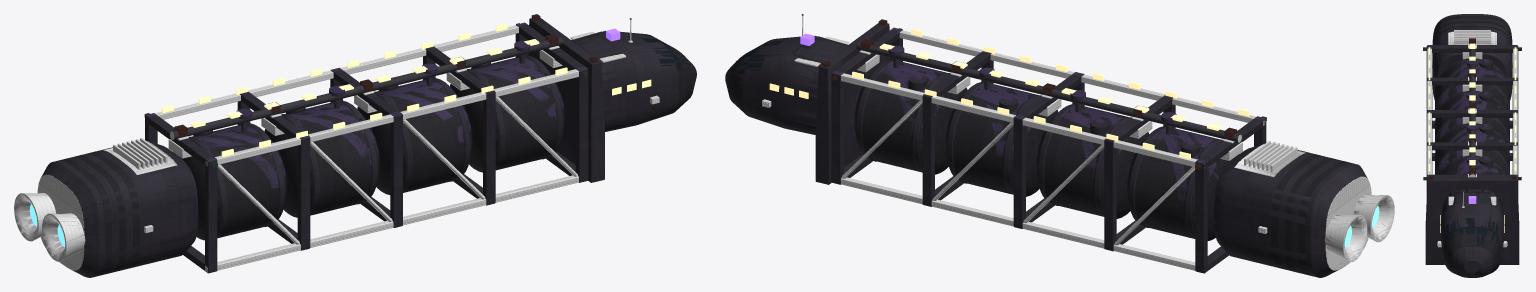
Rendered from place_quiessence_freighter_a.glb.
The picture shows the model from 3 angles, left to right: view 1: azimuth 30°, elevation 25°; view 2: azimuth 150°, elevation 25°; view 3: azimuth 270°, elevation 25°; orthographic projection. The views are drawn at different scales.
Visible parts, largest first — view 1: LOD0_Armor, LOD0_Hull, LOD0_Mechanical, LOD1_Hull, LOD1_Armor, LOD2_Armor, LOD0_Livery, LOD0_BrushedMetal, LOD2_Hull, LOD0_Lights_Warm, LOD1_Livery, LOD1_Mechanical (+7 smaller); view 2: LOD0_Armor, LOD0_Hull, LOD0_Mechanical, LOD1_Hull, LOD1_Armor, LOD2_Armor, LOD2_Hull, LOD0_BrushedMetal, LOD0_Livery, LOD0_Lights_Warm, LOD1_Livery, LOD0_MechanicalDark (+6 smaller); view 3: LOD0_Armor, LOD0_Hull, LOD1_Armor, LOD0_Mechanical, LOD2_Armor, LOD0_Livery, LOD1_Hull, LOD2_Hull, LOD0_Lights_Warm, LOD1_Livery, LOD0_CANOPY, LOD1_Mechanical (+11 smaller).
Boxes of the visible parts, x1,y1,x2,y2 form: LOD0_Armor: [42, 19, 696, 277]; LOD0_Hull: [60, 43, 693, 275]; LOD0_Mechanical: [14, 20, 659, 272]; LOD1_Hull: [175, 49, 692, 237]; LOD1_Armor: [43, 18, 696, 276]; LOD2_Armor: [41, 19, 696, 277]; LOD0_Livery: [146, 22, 586, 188]; LOD0_BrushedMetal: [172, 37, 562, 139]; LOD2_Hull: [173, 39, 693, 238]; LOD0_Lights_Warm: [161, 23, 651, 156]; LOD1_Livery: [193, 44, 587, 187]; LOD1_Mechanical: [14, 20, 631, 264]; LOD0_Armor: [725, 24, 1367, 277]; LOD0_Hull: [728, 47, 1349, 275]; LOD0_Mechanical: [762, 15, 1394, 270]; LOD1_Hull: [729, 56, 1234, 238]; LOD1_Armor: [725, 23, 1364, 277]; LOD2_Armor: [725, 36, 1362, 277]; LOD2_Hull: [728, 42, 1232, 238]; LOD0_BrushedMetal: [856, 42, 1240, 142]; LOD0_Livery: [832, 27, 1264, 200]; LOD0_Lights_Warm: [769, 28, 1249, 159]; LOD1_Livery: [833, 50, 1218, 200]; LOD0_MechanicalDark: [763, 43, 1394, 270]; LOD0_Armor: [1425, 14, 1519, 277]; LOD0_Hull: [1432, 16, 1512, 277]; LOD1_Armor: [1425, 14, 1518, 273]; LOD0_Mechanical: [1427, 30, 1517, 247]; LOD2_Armor: [1426, 14, 1518, 277]; LOD0_Livery: [1427, 45, 1517, 180]; LOD1_Hull: [1435, 61, 1509, 277]; LOD2_Hull: [1436, 60, 1508, 277]; LOD0_Lights_Warm: [1428, 43, 1516, 232]; LOD1_Livery: [1427, 60, 1495, 177]; LOD0_CANOPY: [1445, 218, 1499, 243]; LOD1_Mechanical: [1427, 30, 1495, 206].
Size of what is drawn, in the model's own units: 35.12 by 6.67 by 6.44.
Materials: 14 (7 with a texture image).
